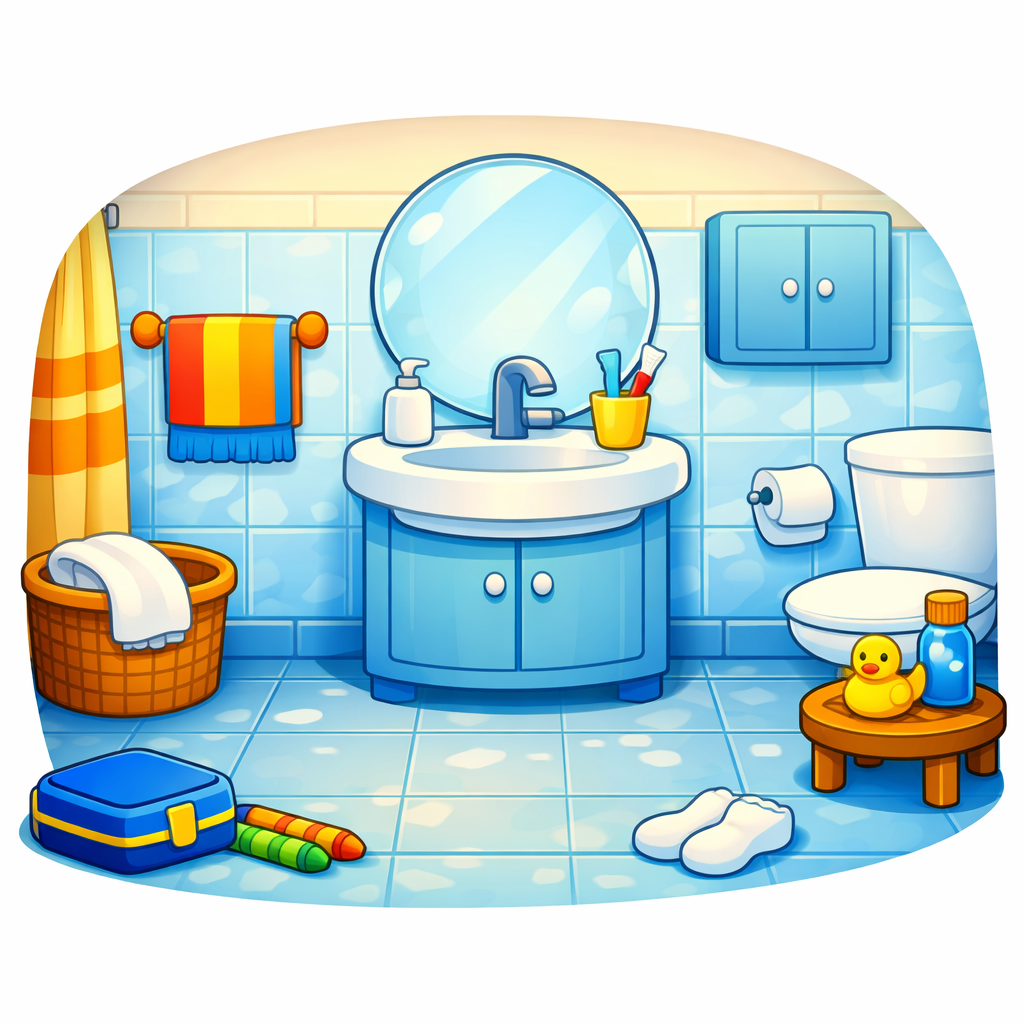Wasbak: (330, 146, 700, 715)
